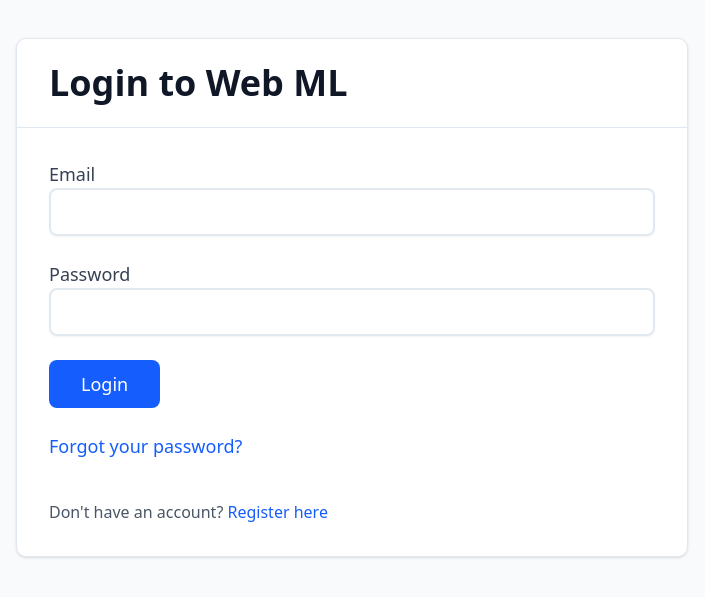
Scenario: LoginPage › failed login shows error message returned by login
Type "bad@example.com" into the field labelled "Email".
click(352, 212); type("bad@example.com")  # box [49,188,655,236]
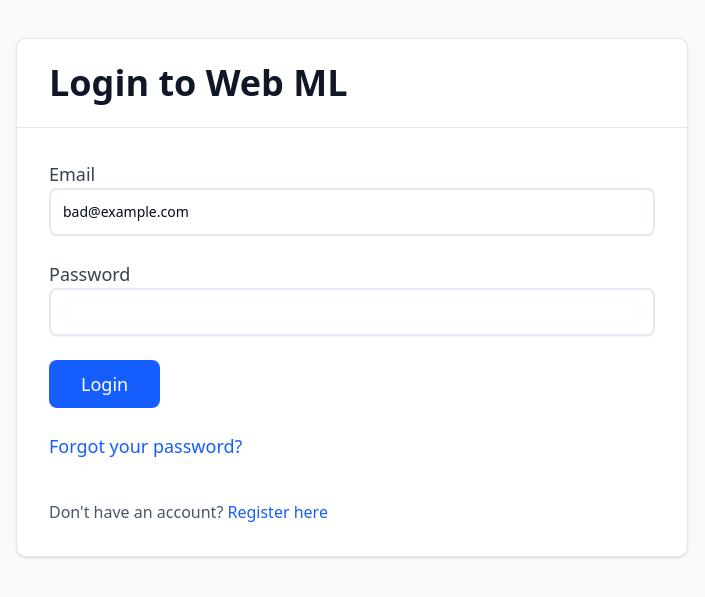
Type "wrong" into the password field labelled "Password".
click(352, 312); type("wrong")  # box [49,288,655,336]
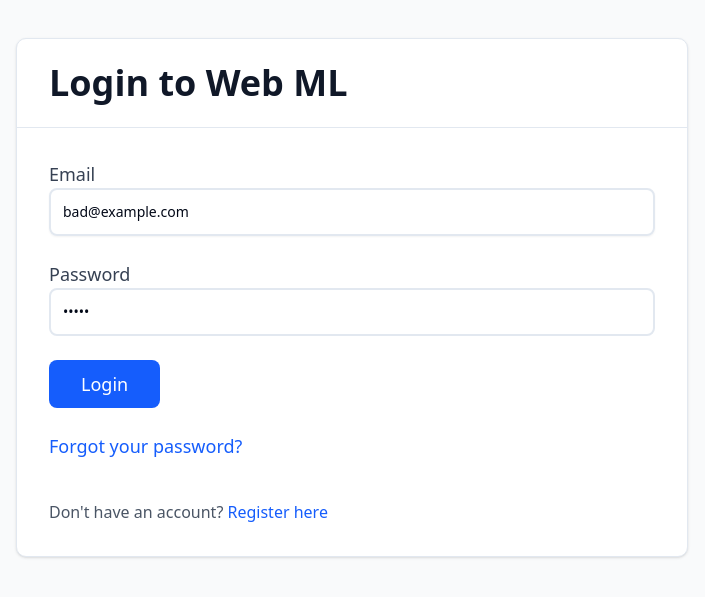
Click the button "Login".
click(105, 384)  # box [49,360,160,408]
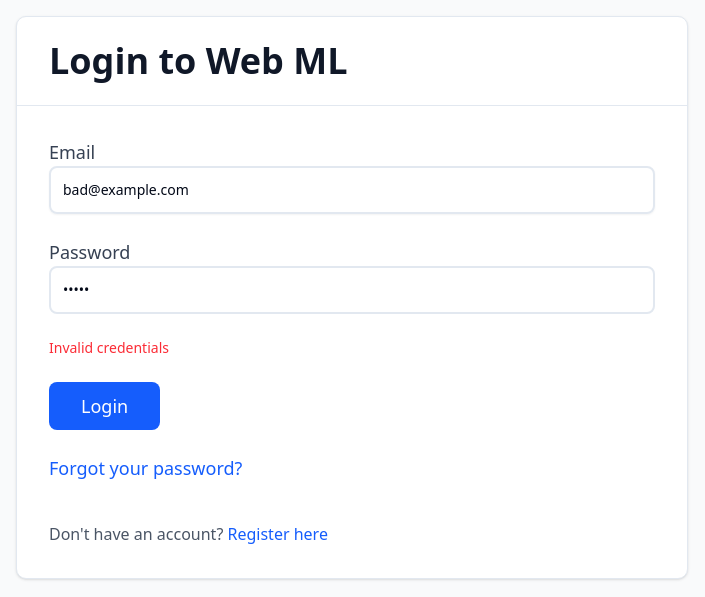
expect the text "Invalid credentials" is shown: met, box [49,338,169,356]
